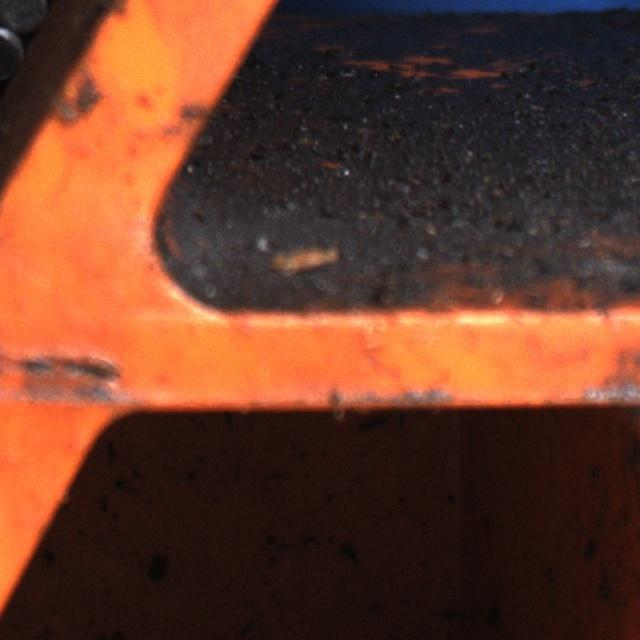tool: (0, 0, 48, 29), (0, 23, 24, 77)
